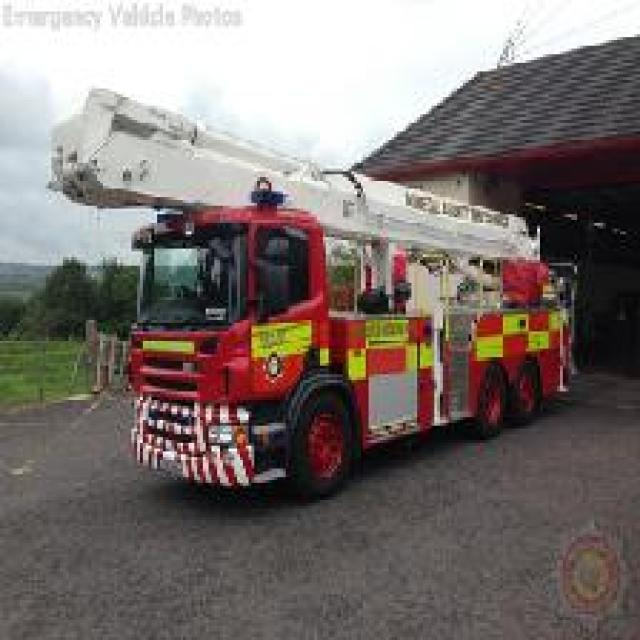Fire-truck: (43, 83, 580, 497)
